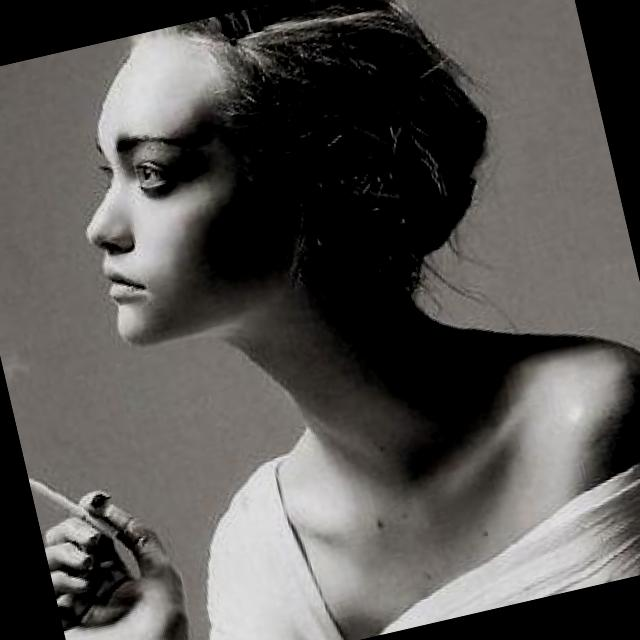cigarette: (27, 456, 119, 552)
